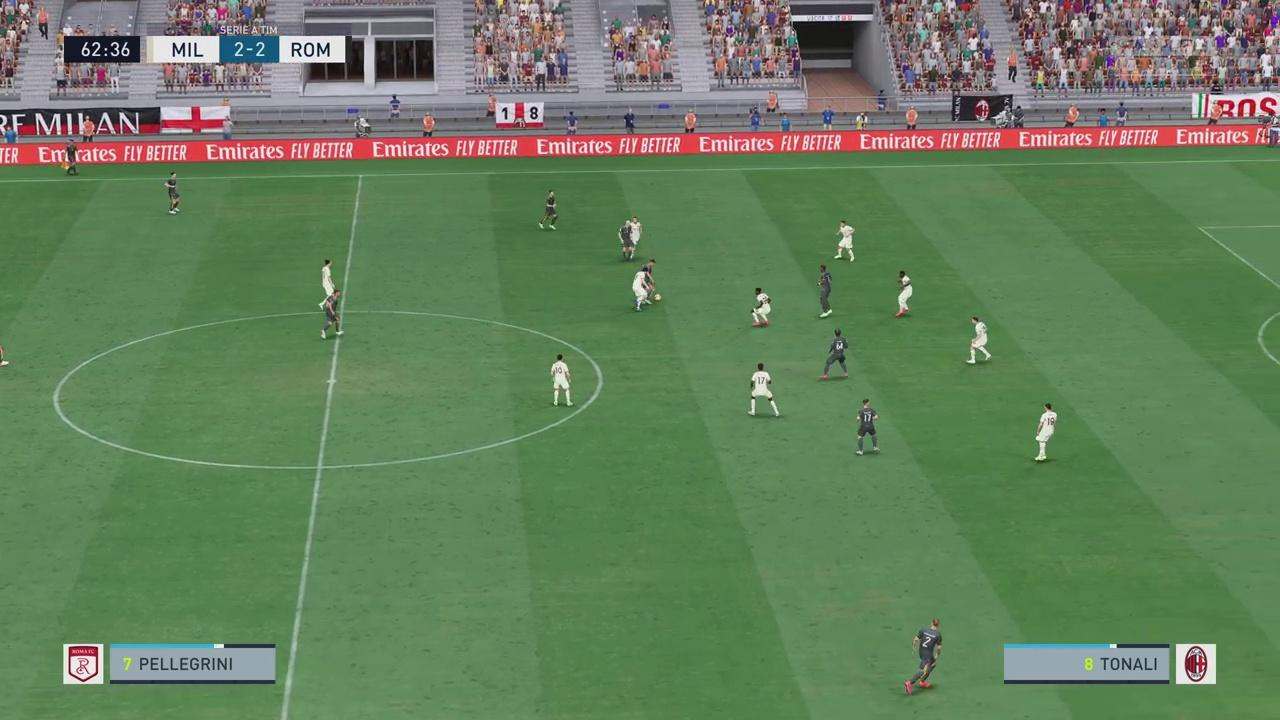scoreboard: (150, 35, 347, 65)
timestamp: (62, 35, 141, 63)
